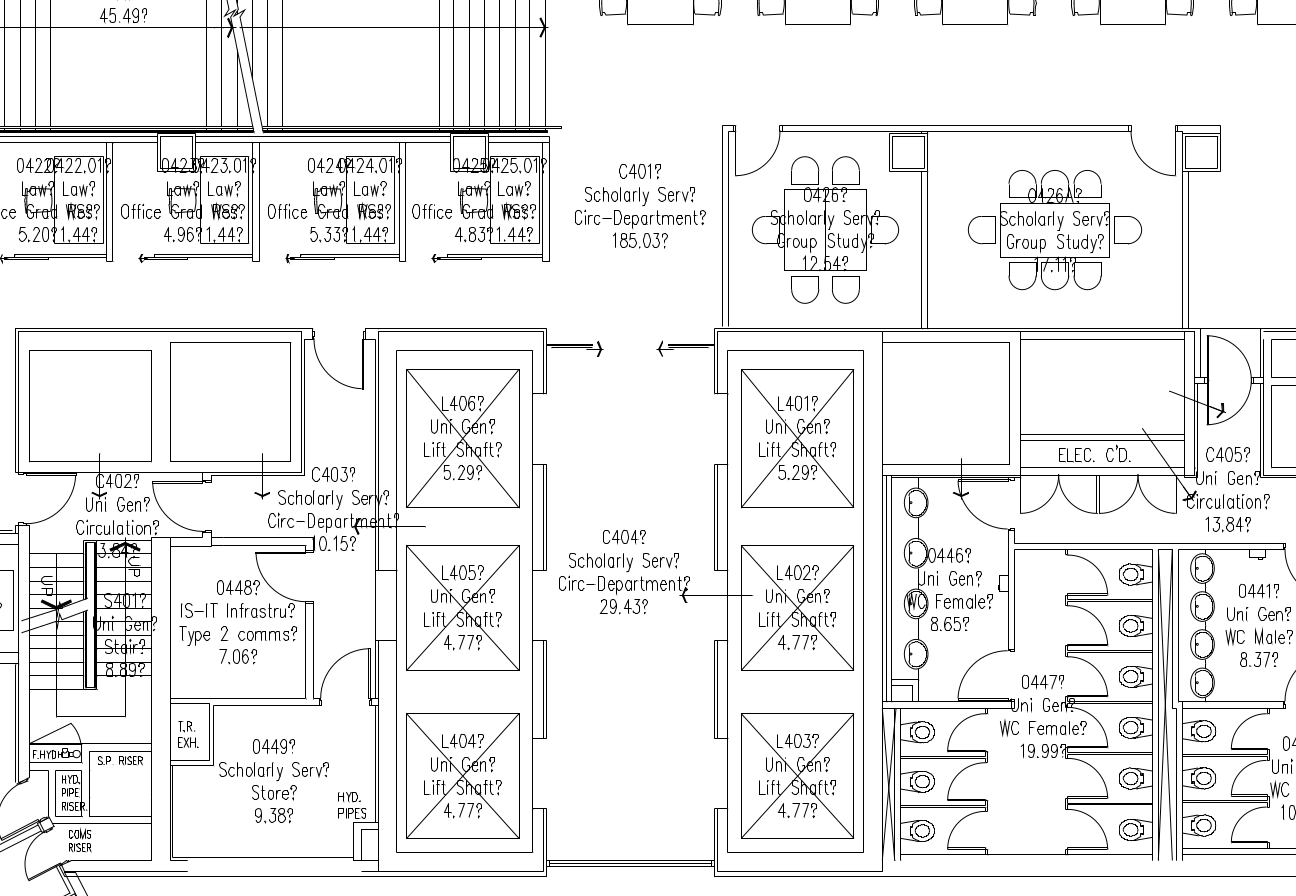door: (1201, 329, 1254, 432), (949, 645, 1019, 707), (951, 474, 1021, 536), (311, 643, 372, 710), (12, 828, 72, 892), (252, 547, 309, 604), (311, 335, 368, 392), (148, 477, 205, 534), (23, 467, 80, 524), (730, 125, 787, 182), (1123, 126, 1180, 183), (1057, 550, 1112, 598), (1060, 601, 1115, 649), (1059, 651, 1114, 699), (1059, 754, 1114, 802), (1056, 701, 1111, 749), (1056, 806, 1111, 854), (940, 805, 995, 853), (940, 757, 995, 805), (938, 709, 993, 757), (1, 778, 41, 844), (1014, 471, 1061, 515), (1050, 472, 1097, 516), (1094, 472, 1141, 516), (1134, 473, 1181, 517), (1224, 710, 1273, 752), (1223, 756, 1272, 798), (1220, 805, 1269, 847)
